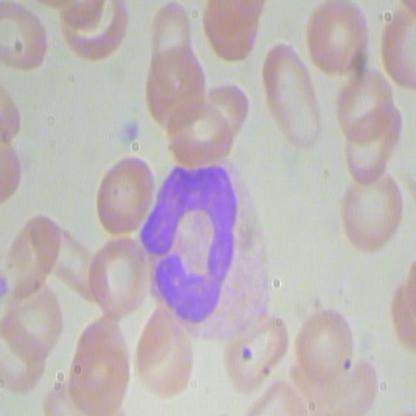RBC: (65, 315, 137, 415), (260, 42, 323, 153), (126, 302, 197, 400), (338, 163, 404, 254), (90, 155, 161, 238), (87, 234, 157, 317), (1, 209, 60, 300), (294, 303, 356, 388), (224, 314, 290, 393), (306, 1, 375, 76), (333, 69, 393, 147), (164, 101, 236, 165), (152, 1, 194, 100)
WBC: (131, 157, 272, 340)
